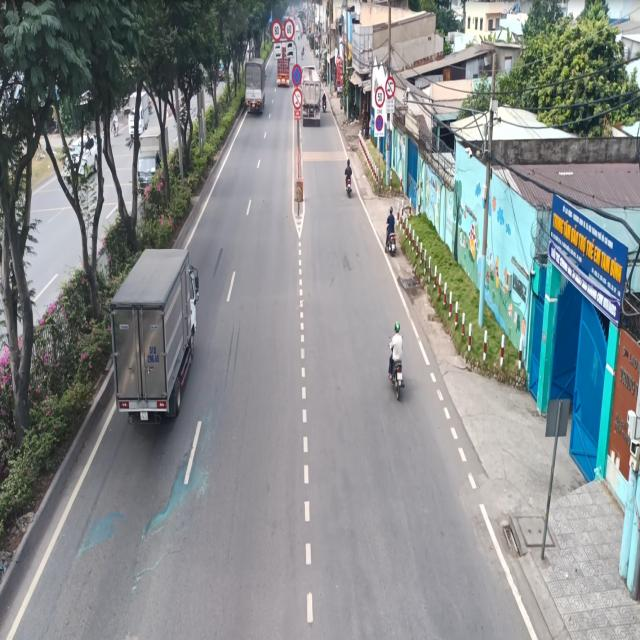motor: (384, 317, 408, 409), (382, 199, 399, 256), (338, 158, 356, 206)
truck: (108, 243, 201, 447), (240, 52, 267, 123), (298, 67, 320, 129)
